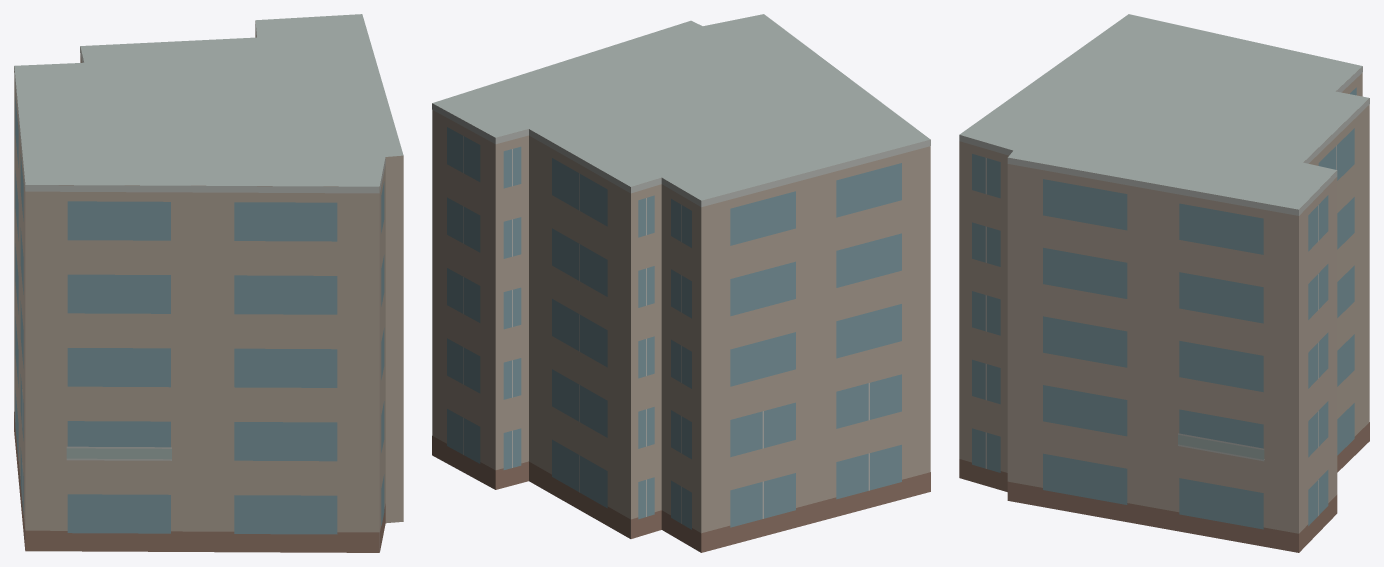
Rendered from survey-upis-32982836.glb.
3 renders of one model, left to right at view 1: azimuth 30°, elevation 25°; view 2: azimuth 150°, elevation 25°; view 3: azimuth 270°, elevation 25°, orthographic. The views are drawn at different scales.
Visible parts, largest first — view 1: survey-upis-32982836.tmp; view 2: survey-upis-32982836.tmp; view 3: survey-upis-32982836.tmp.
Part boxes in pixels (bbox=[...]): survey-upis-32982836.tmp: bbox=[14, 14, 403, 552]; survey-upis-32982836.tmp: bbox=[432, 14, 930, 552]; survey-upis-32982836.tmp: bbox=[959, 14, 1369, 552].
Size of the model in its own units: 16.15 by 13.2 by 14.31.
